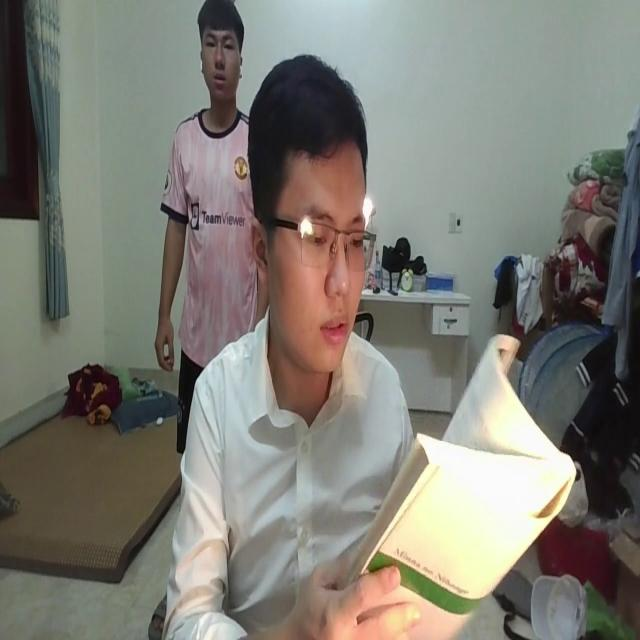book: (359, 315, 576, 638)
extra_person: (154, 6, 274, 412)
student: (164, 58, 416, 640)
